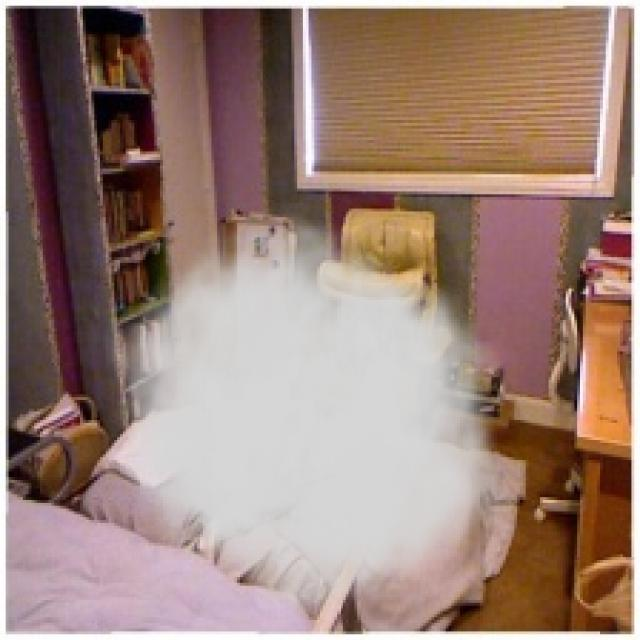Smoke: (106, 202, 520, 628)
